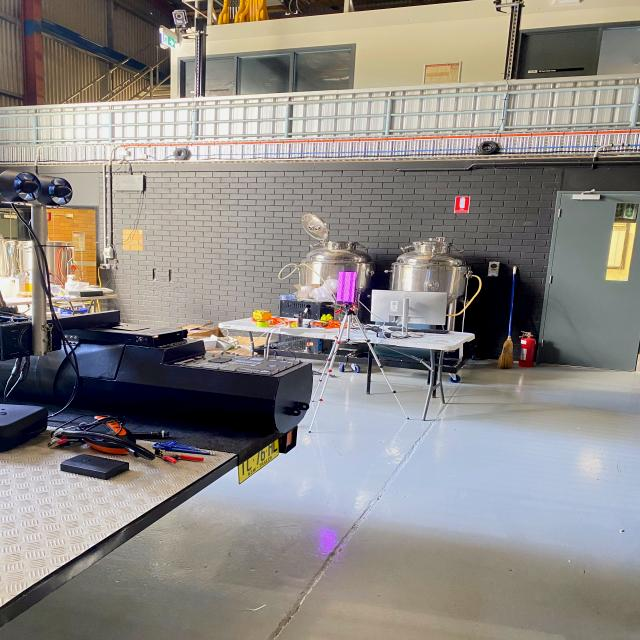matrix: (330, 266, 363, 309)
